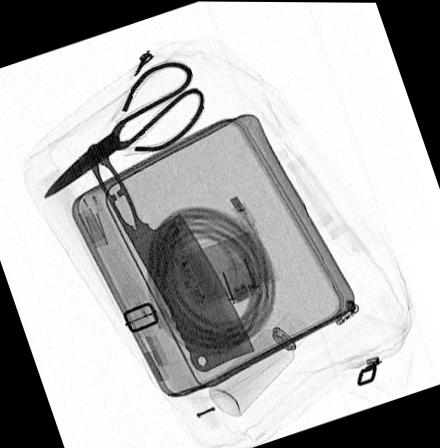Knife: (84, 144, 256, 372)
Powerbank: (170, 220, 284, 316)
Scissors: (38, 59, 204, 199)
Sprayer: (209, 310, 310, 416)
